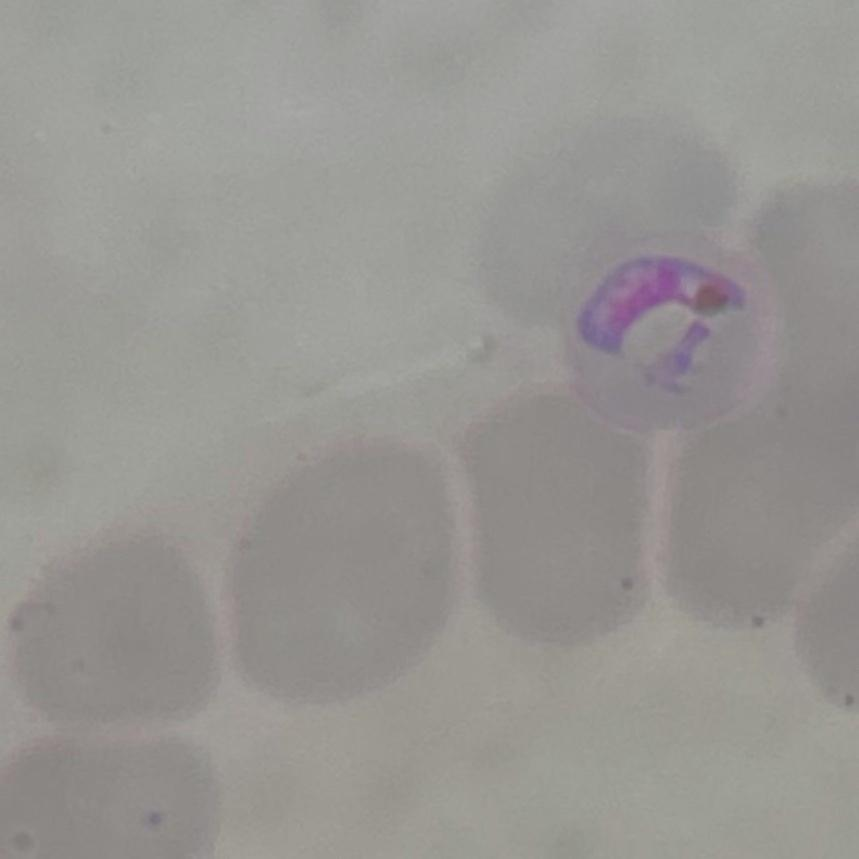Infected: (566, 221, 782, 436)
Uninfected: (234, 441, 459, 703), (482, 119, 734, 319), (466, 383, 653, 644), (8, 537, 227, 728)
